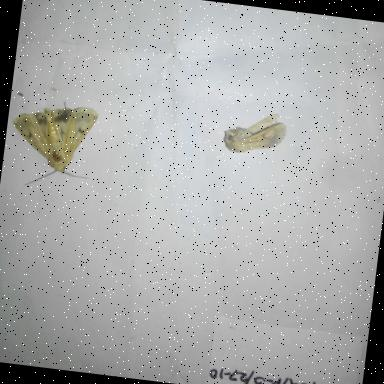abw: (4, 95, 100, 194)
